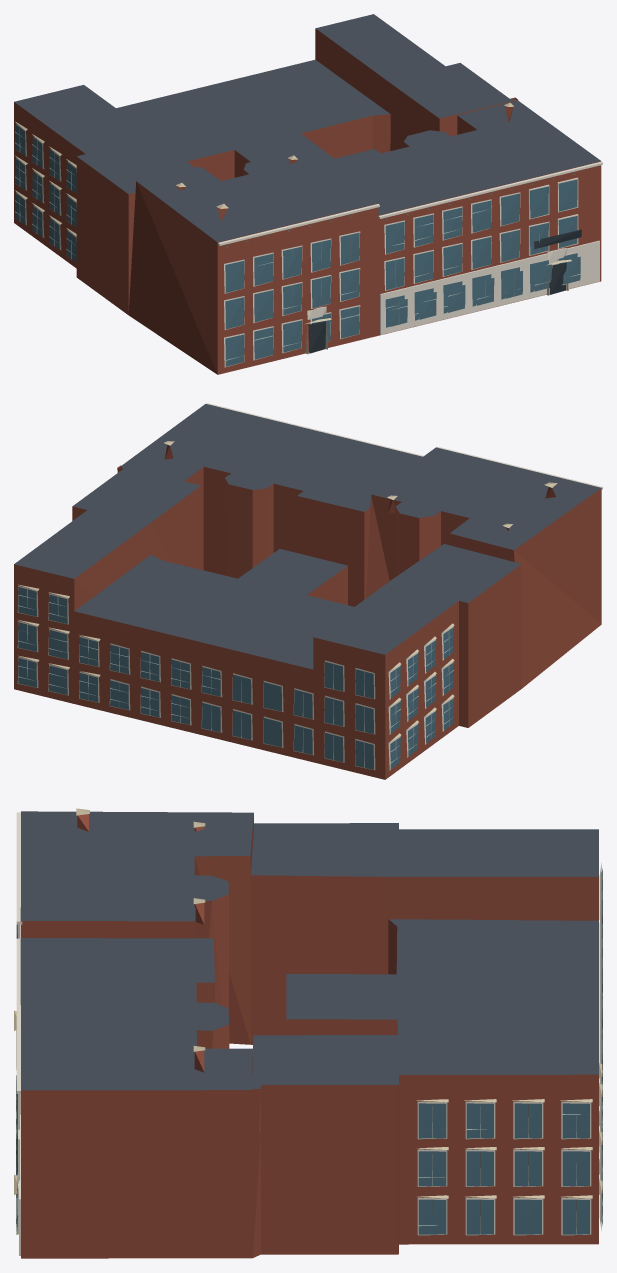
File: cavia.lod1.glb
The picture shows the model from 3 angles, top to bottom: view 1: azimuth 30°, elevation 25°; view 2: azimuth 150°, elevation 25°; view 3: azimuth 270°, elevation 25°; orthographic projection. The views are drawn at different scales.
Parts seen in each view (by area): view 1: cavia; view 2: cavia; view 3: cavia.
Part boxes in pixels (bbox=[...]): cavia: bbox=[14, 14, 602, 374]; cavia: bbox=[14, 403, 602, 779]; cavia: bbox=[14, 808, 602, 1258].
Bounding box in the file's own units: 45.94 × 16.43 × 42.99.
